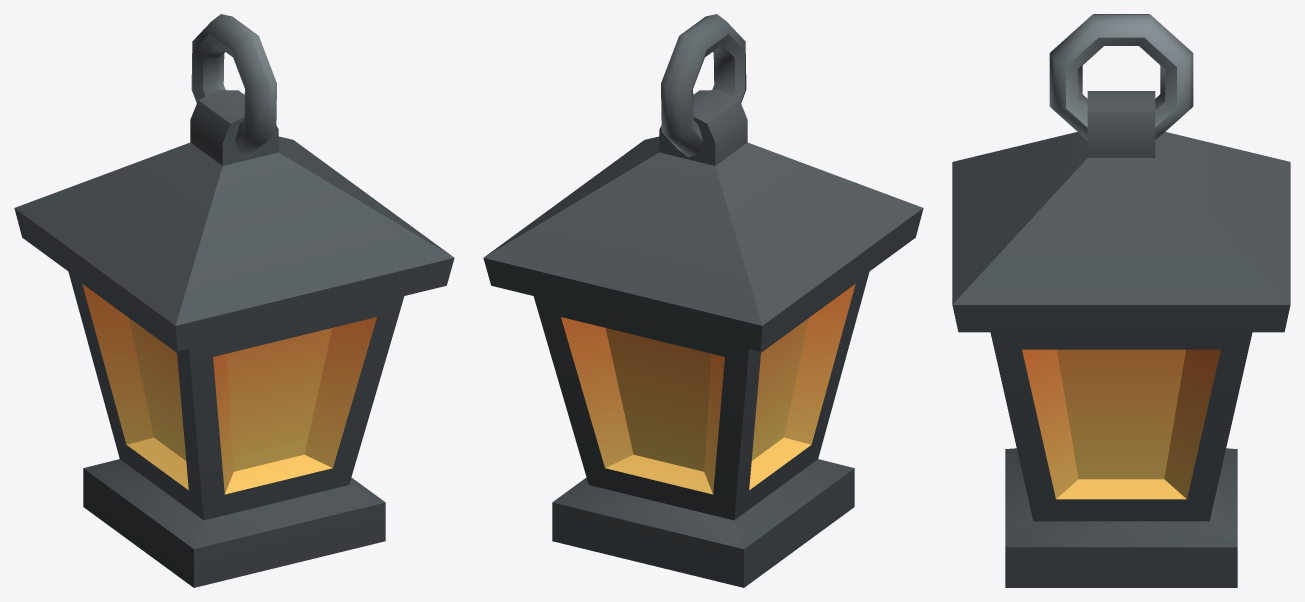
Rendered from lantern.glb.
3 renders of one model, left to right at view 1: azimuth 30°, elevation 25°; view 2: azimuth 150°, elevation 25°; view 3: azimuth 270°, elevation 25°, orthographic. The views are drawn at different scales.
Visible parts, largest first — view 1: lantern_standing; view 2: lantern_standing; view 3: lantern_standing.
Boxes of the visible parts, x1,y1,x2,y2 form: lantern_standing: [14, 14, 454, 587]; lantern_standing: [483, 14, 923, 587]; lantern_standing: [952, 14, 1290, 587].
Size of the model in its own units: 0.2159 by 0.3692 by 0.2159.
Materials: 1 (1 with a texture image).
